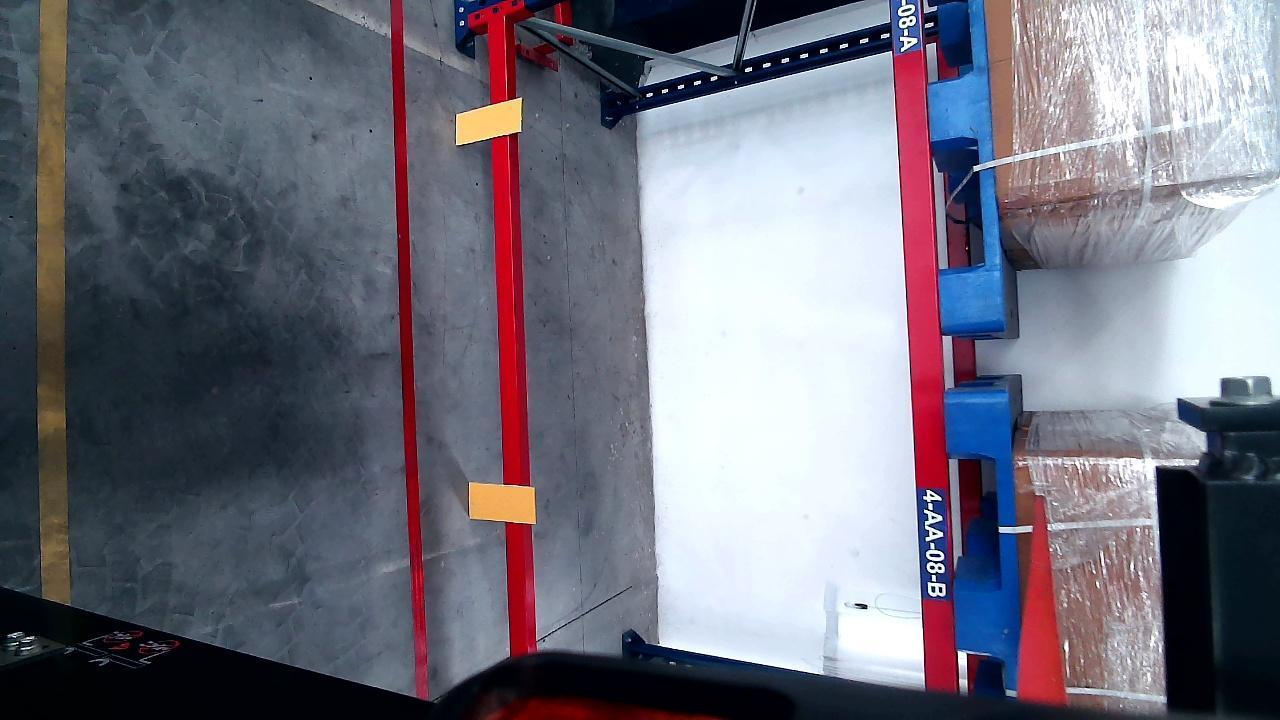h_rack: (888, 0, 954, 698), (489, 22, 533, 664)
orange_strip: (455, 98, 523, 144), (468, 482, 535, 523)
red_line: (390, 0, 427, 700)
small_pallet: (920, 0, 1004, 330), (950, 390, 1029, 685)
yellow_line: (36, 2, 69, 602)
